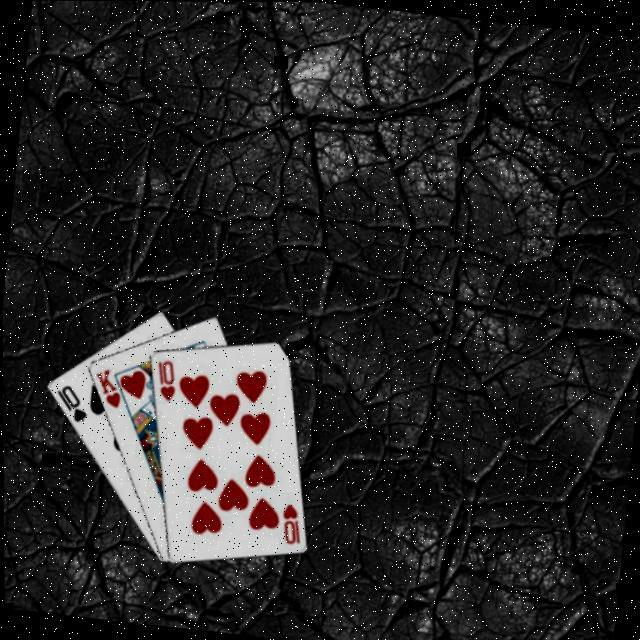10H: (276, 497, 308, 545), (151, 354, 182, 402)
10S: (52, 378, 94, 424)
KH: (90, 362, 126, 409)
